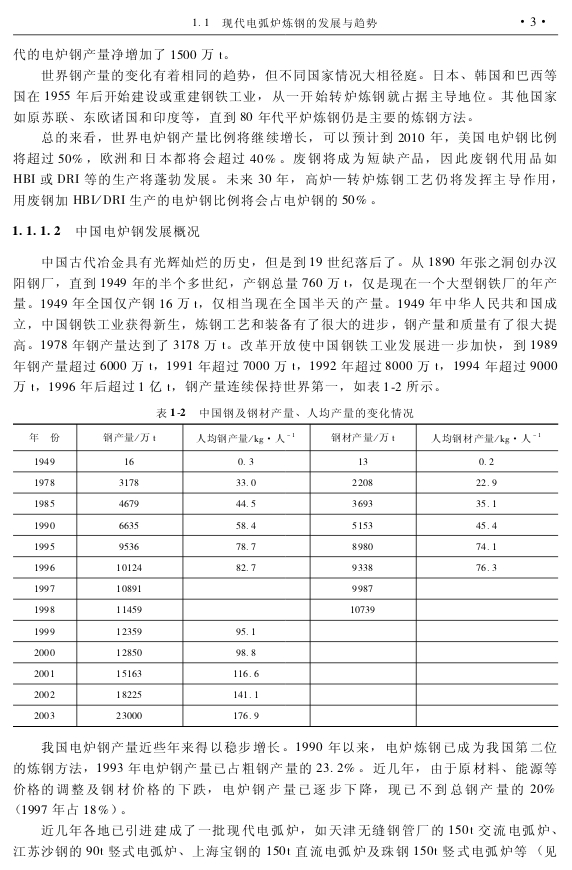table: (13, 423, 559, 728)
